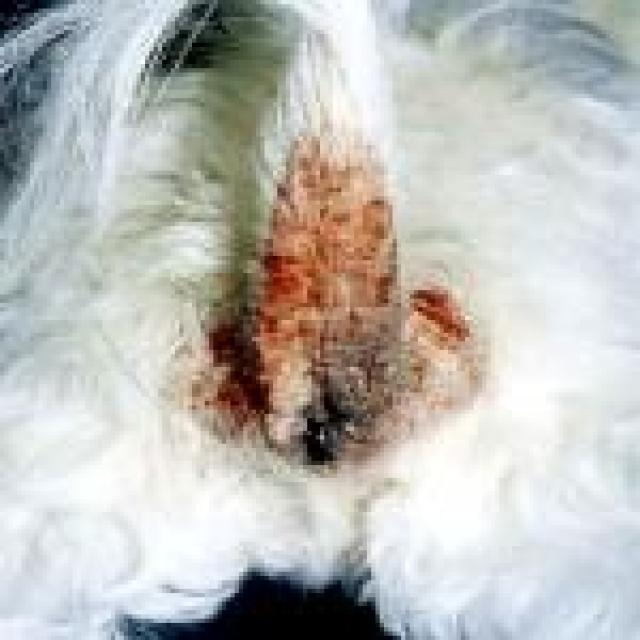fungal infection: (243, 146, 410, 470), (190, 304, 291, 436), (399, 277, 480, 418)
